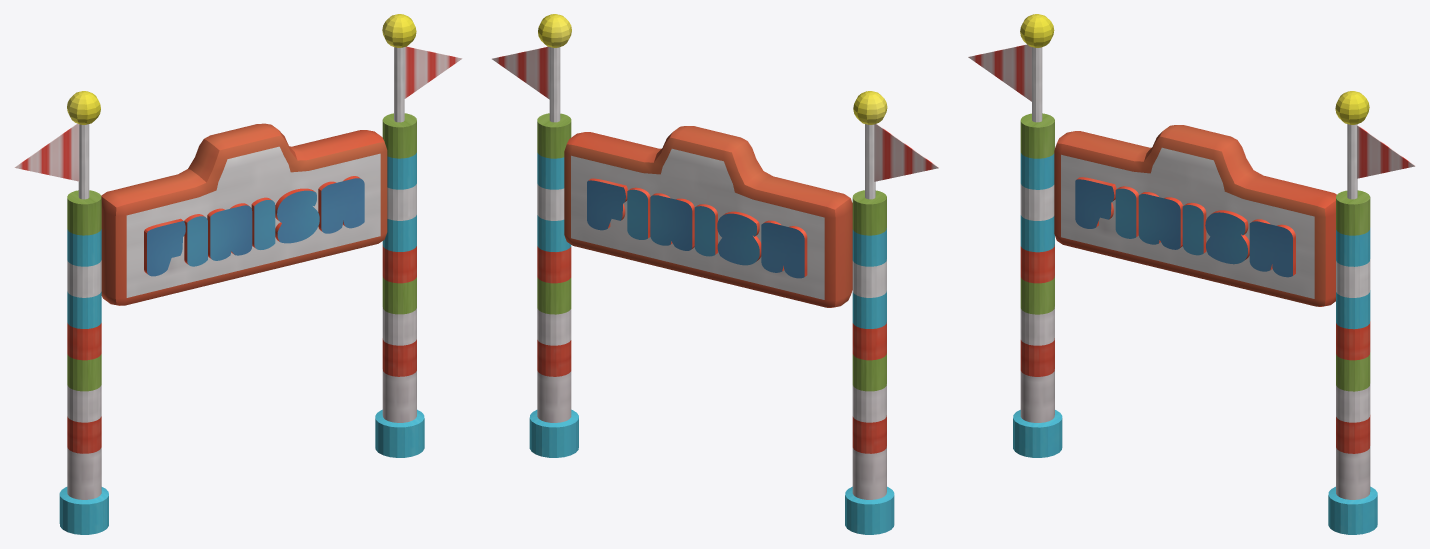
Rendered from Finish.fbx.
The picture shows the model from 3 angles, left to right: view 1: azimuth 30°, elevation 25°; view 2: azimuth 150°, elevation 25°; view 3: azimuth 330°, elevation 25°; orthographic projection.
Visible parts, largest first — view 1: polySurface1; view 2: polySurface1; view 3: polySurface1.
Part boxes in pixels (box(x1,y1,x2,y2)): polySurface1: box(14, 14, 462, 534); polySurface1: box(492, 14, 938, 534); polySurface1: box(968, 14, 1415, 534).
Size of the model in its own units: 30.04 by 27.73 by 3.19.
